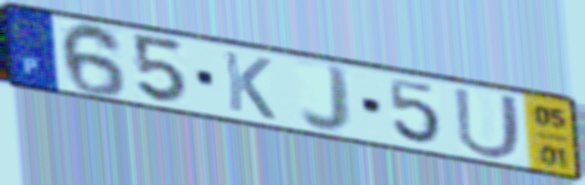5: (128, 30, 192, 107), (387, 77, 445, 146)
6: (56, 20, 131, 99)
J: (297, 62, 354, 136)
K: (220, 47, 279, 123)
U: (450, 84, 525, 162)
